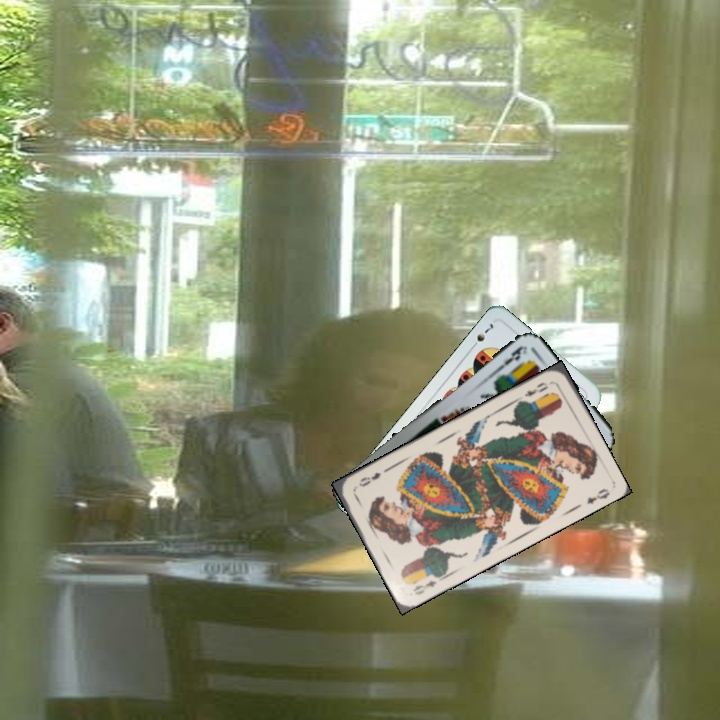EK: (494, 342, 529, 373)
EO: (409, 576, 439, 598), (521, 378, 551, 399)
S7: (467, 319, 496, 352)
